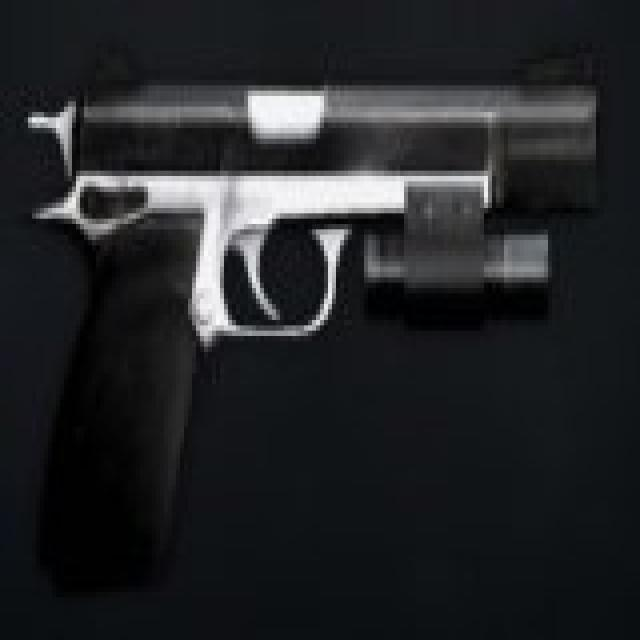Gun: (16, 70, 600, 559)
